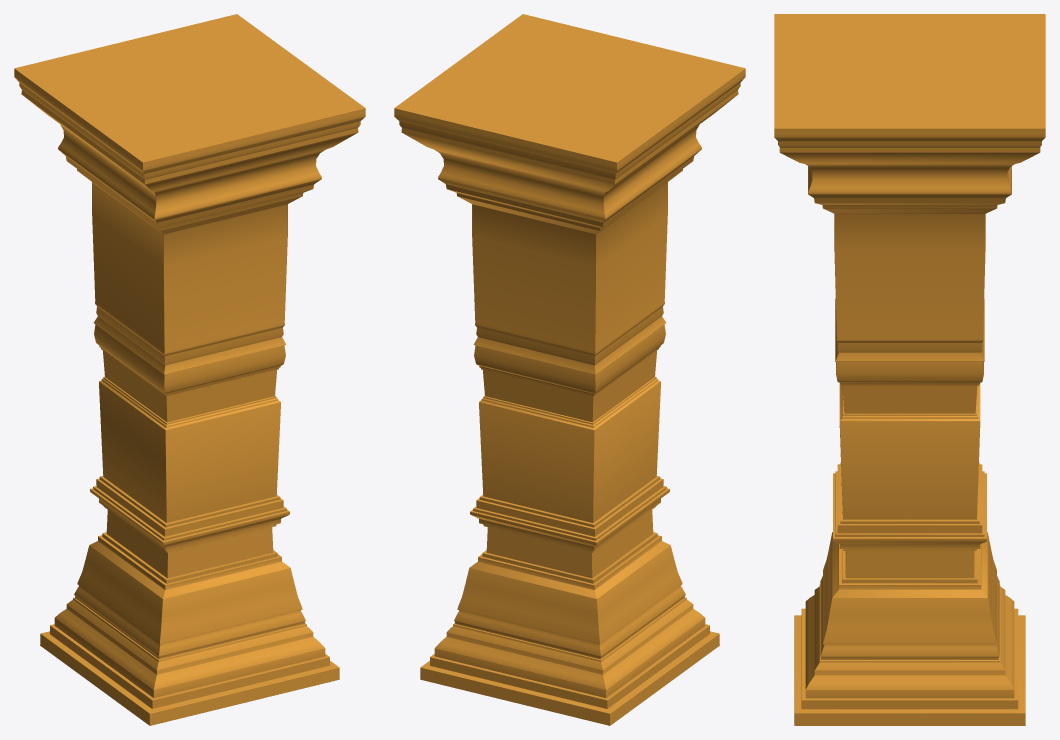
Rendered from Column.fbx.
3 renders of one model, left to right at view 1: azimuth 30°, elevation 25°; view 2: azimuth 150°, elevation 25°; view 3: azimuth 270°, elevation 25°, orthographic. The views are drawn at different scales.
Parts seen in each view (by area): view 1: Columna01; view 2: Columna01; view 3: Columna01.
Part boxes in pixels (box(x1,y1,x2,y2)): Columna01: box(14, 14, 365, 725); Columna01: box(394, 14, 745, 725); Columna01: box(774, 14, 1045, 725).
Size of the model in its own units: 0.9973 by 2.46 by 0.9973.
